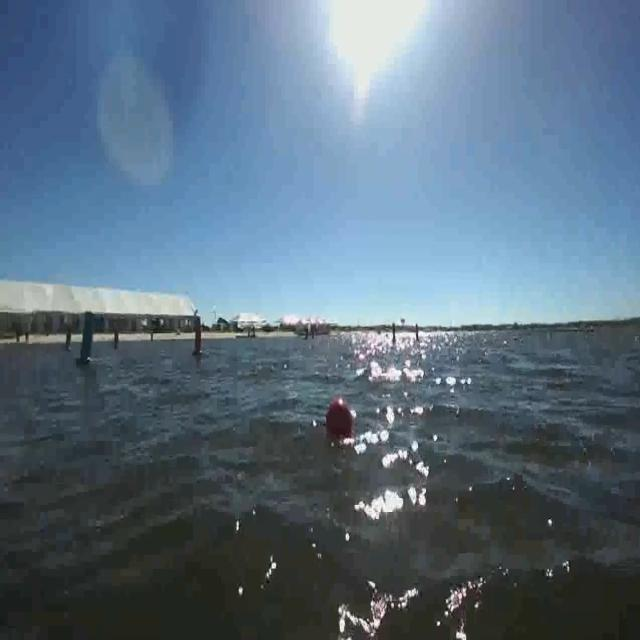green-column-buoy: (76, 311, 97, 366), (65, 328, 74, 353), (15, 330, 21, 346)
red-buoy: (325, 397, 356, 445)
red-column-buoy: (193, 326, 206, 358), (113, 329, 121, 351), (25, 330, 31, 346)
